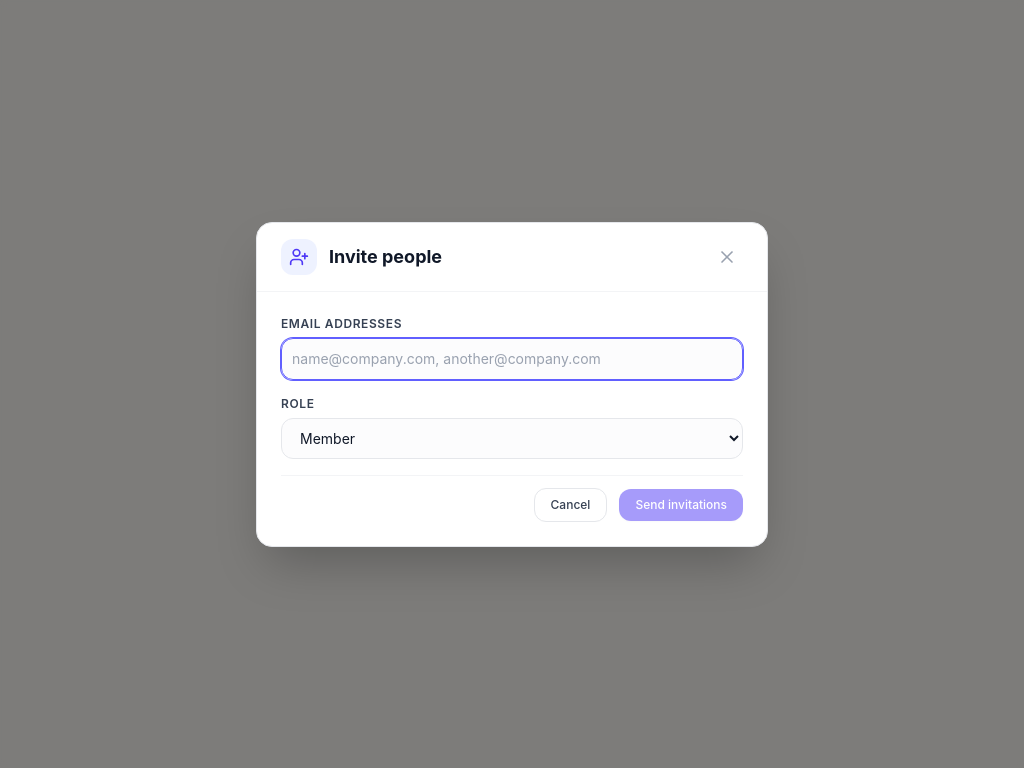
it: InviteMembersModal › keeps an invalid address in the box and doesn't send anything
The width and height of the screenshot is (1024, 768).
In the field labelled "Email addresses": (512, 358) 292,346 -> 732,370, type "not-an-email"
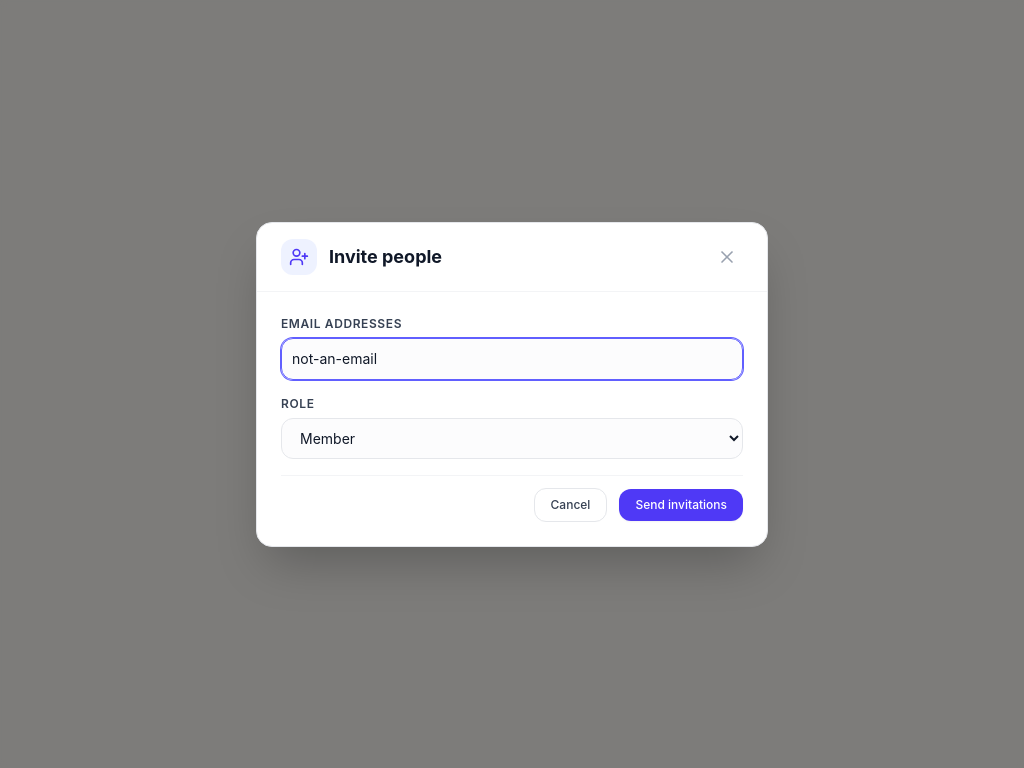
Click the button "Send invitations": (681, 504) 619,488 -> 743,520
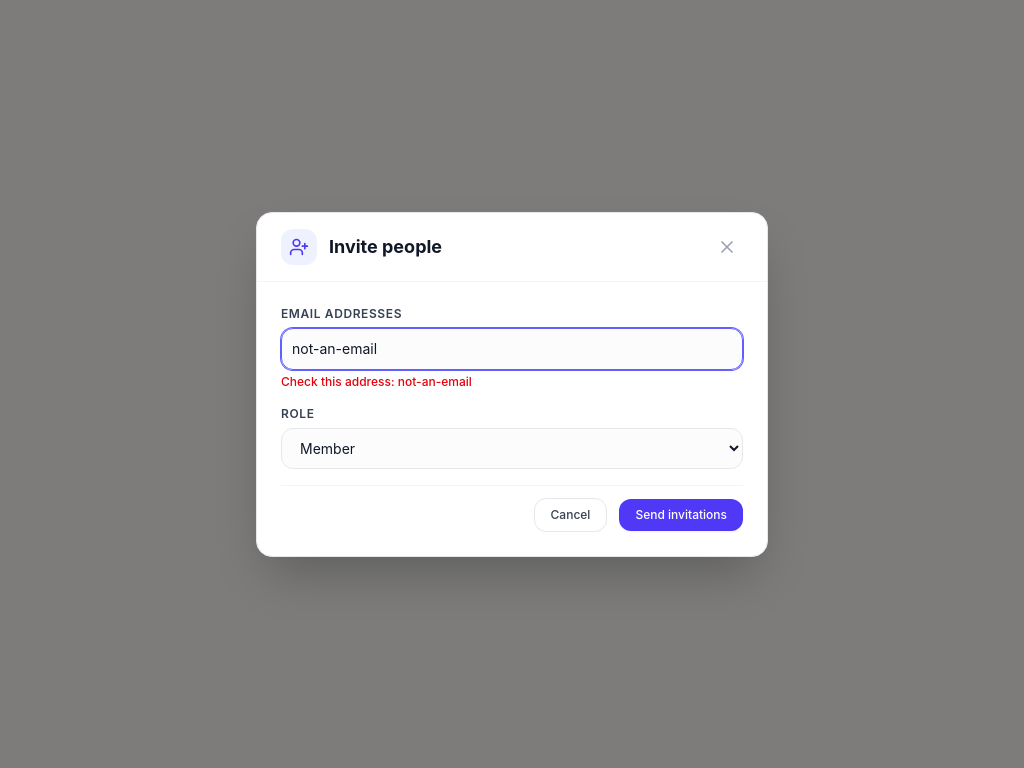
Result: the text "Check this address: not-an-email" is shown at 281,374 -> 472,388
